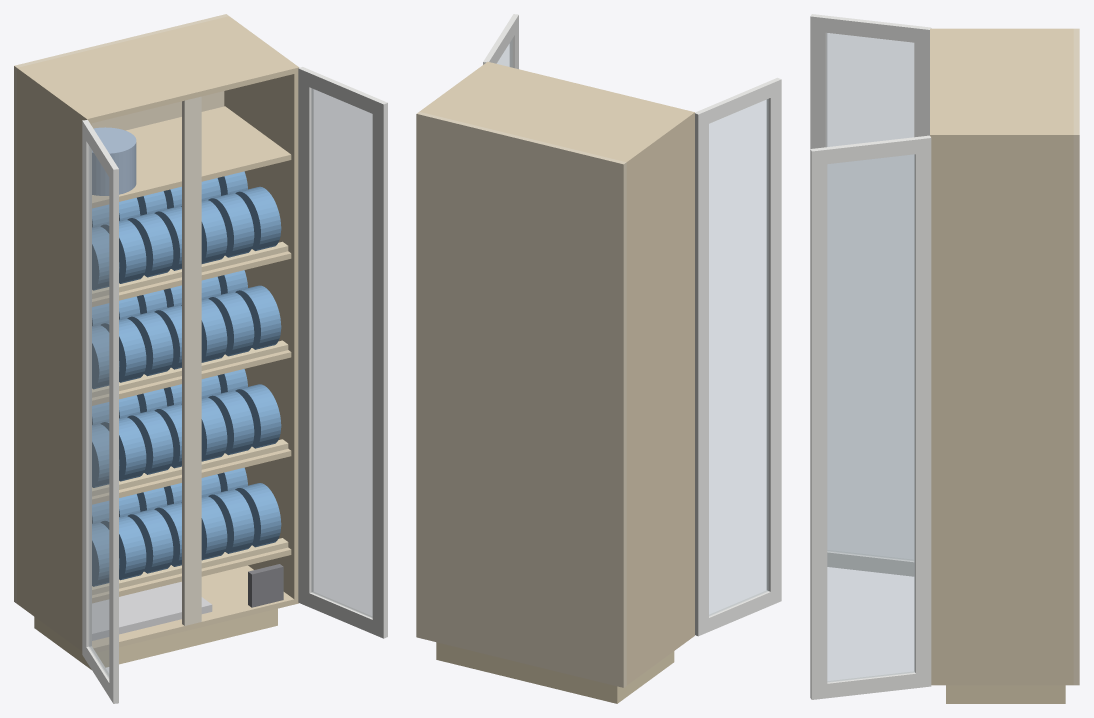
File: spool-cabinet-open.glb
3 renders of one model, left to right at view 1: azimuth 30°, elevation 25°; view 2: azimuth 150°, elevation 25°; view 3: azimuth 270°, elevation 25°, orthographic. The views are drawn at different scales.
Parts seen in each view (by area): view 1: Case/side left, Door Right/tempered glass 4 mm, Case/side right, Case/top, Case/center stile 1x3, Door Left/tempered glass 4 mm, Door Right/stile latch side, Door Right/stile hinge side, Shelves/cubby shelf, Door Left/stile latch side, Door Left/stile hinge side, Case/back (+45 smaller); view 2: Case/back, Case/side left, Door Left/tempered glass 4 mm, Case/top, Door Left/stile latch side, Door Left/stile hinge side, Plinth/back 2x4, Door Left/rail top, Door Left/rail bottom; view 3: Case/side right, Door Right/tempered glass 4 mm, Door Left/tempered glass 4 mm, Case/top, Door Right/stile latch side, Door Right/stile hinge side, Case/back, Door Left/stile latch side, Plinth/cross 2x4 3, Door Left/stile hinge side, Door Left/rail top, Door Right/rail top (+3 smaller).
Part boxes in pixels (left/top/right/bottom): Case/side left: left=17, top=67, right=91, bottom=651; Door Right/tempered glass 4 mm: left=311, top=88, right=372, bottom=617; Case/side right: left=224, top=16, right=299, bottom=604; Case/top: left=22, top=17, right=294, bottom=122; Case/center stile 1x3: left=182, top=96, right=201, bottom=625; Door Left/tempered glass 4 mm: left=89, top=146, right=108, bottom=677; Door Right/stile latch side: left=372, top=98, right=387, bottom=638; Door Right/stile hinge side: left=298, top=67, right=313, bottom=606; Shelves/cubby shelf: left=92, top=106, right=291, bottom=208; Door Left/stile latch side: left=109, top=162, right=118, bottom=703; Door Left/stile hinge side: left=82, top=120, right=91, bottom=660; Case/back: left=14, top=14, right=228, bottom=603; Case/back: left=416, top=111, right=626, bottom=687; Case/side left: left=622, top=111, right=694, bottom=685; Door Left/tempered glass 4 mm: left=709, top=99, right=768, bottom=615; Case/top: left=424, top=63, right=689, bottom=160; Door Left/stile latch side: left=766, top=77, right=781, bottom=605; Door Left/stile hinge side: left=695, top=108, right=708, bottom=636; Plinth/back 2x4: left=436, top=642, right=622, bottom=703; Door Left/rail top: left=705, top=82, right=770, bottom=123; Door Left/rail bottom: left=709, top=590, right=770, bottom=631; Case/side right: left=930, top=132, right=1073, bottom=685; Door Right/tempered glass 4 mm: left=827, top=154, right=914, bottom=682; Door Left/tempered glass 4 mm: left=826, top=33, right=913, bottom=560; Case/top: left=930, top=31, right=1073, bottom=132; Door Right/stile latch side: left=810, top=147, right=827, bottom=699; Door Right/stile hinge side: left=914, top=135, right=931, bottom=688; Case/back: left=1073, top=28, right=1079, bottom=685; Door Left/stile latch side: left=810, top=14, right=827, bottom=148; Plinth/cross 2x4 3: left=958, top=685, right=1053, bottom=703; Door Left/stile hinge side: left=914, top=26, right=931, bottom=137; Door Left/rail top: left=825, top=15, right=915, bottom=42; Door Right/rail top: left=826, top=137, right=915, bottom=164.
Size of the model in its own units: 40.72 by 79.5 by 33.72.
